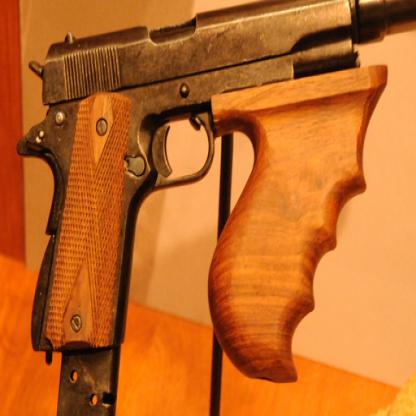gun: (14, 0, 415, 388)
